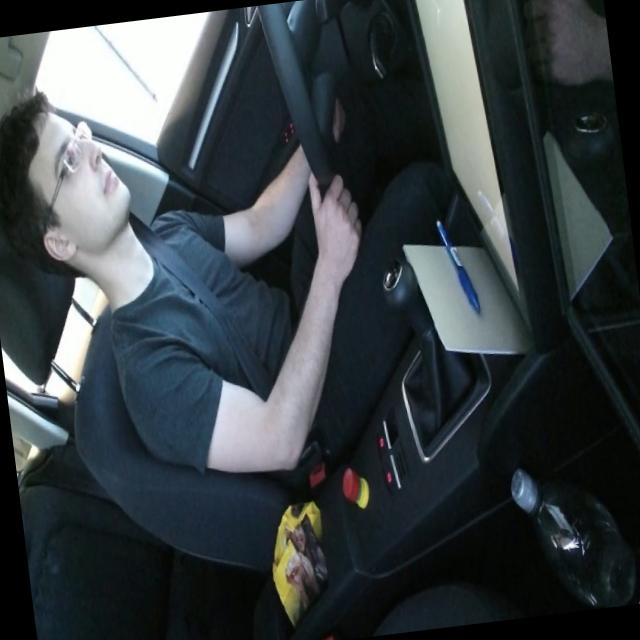pen: (434, 213, 482, 318)
